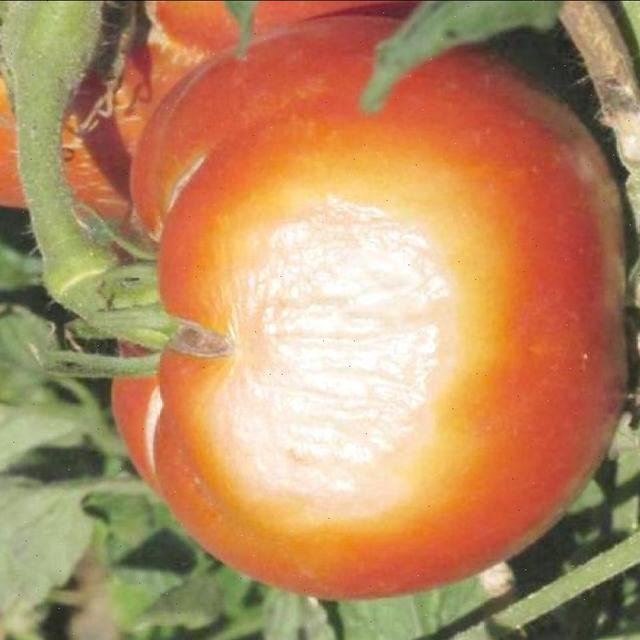Sunscald Fruit: (137, 109, 327, 335)
